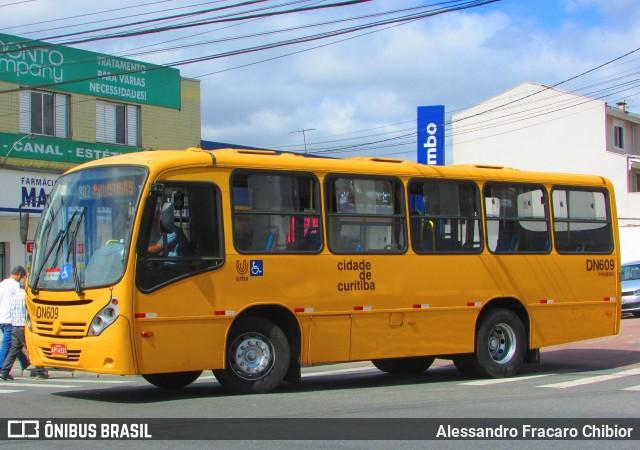PALOTINOS: (88, 176, 138, 201)
